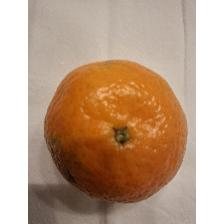Mandarine: (41, 58, 189, 208)
